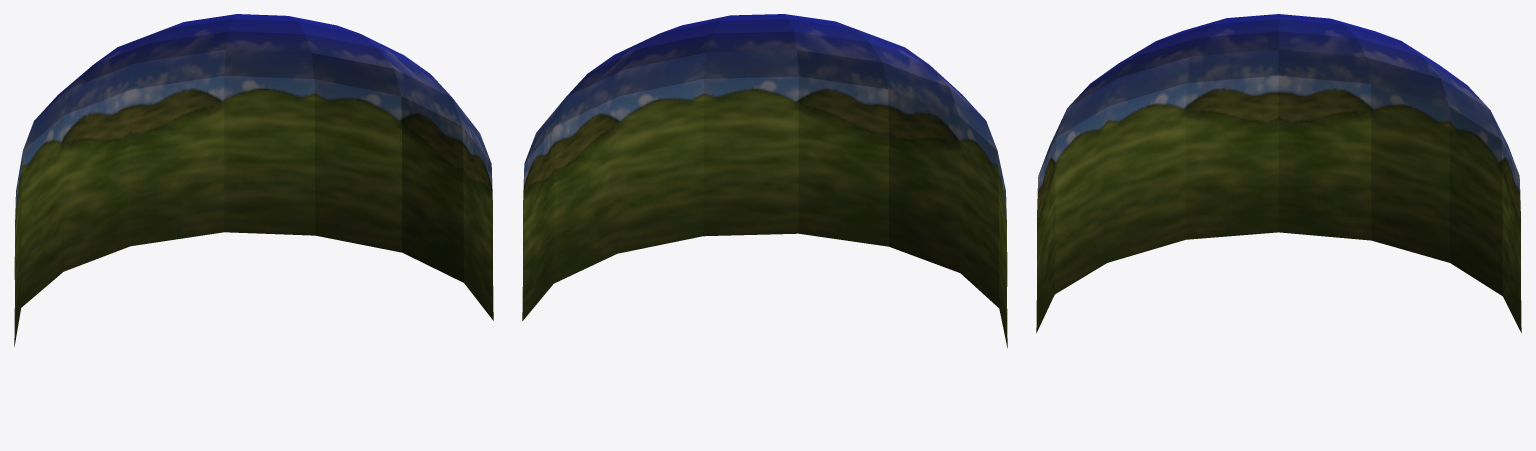
Rendered from Track_01_sky.glb.
The picture shows the model from 3 angles, left to right: view 1: azimuth 30°, elevation 25°; view 2: azimuth 150°, elevation 25°; view 3: azimuth 270°, elevation 25°; orthographic projection.
Visible parts, largest first — view 1: Mesh_0; view 2: Mesh_0; view 3: Mesh_0.
Part boxes in pixels (x1,y1,x2,y2): Mesh_0: (14,14,493,346); Mesh_0: (522,14,1007,348); Mesh_0: (1036,14,1521,333).
Bounding box in the file's own units: 366 × 243 × 366.
1 material, 1 textured.
